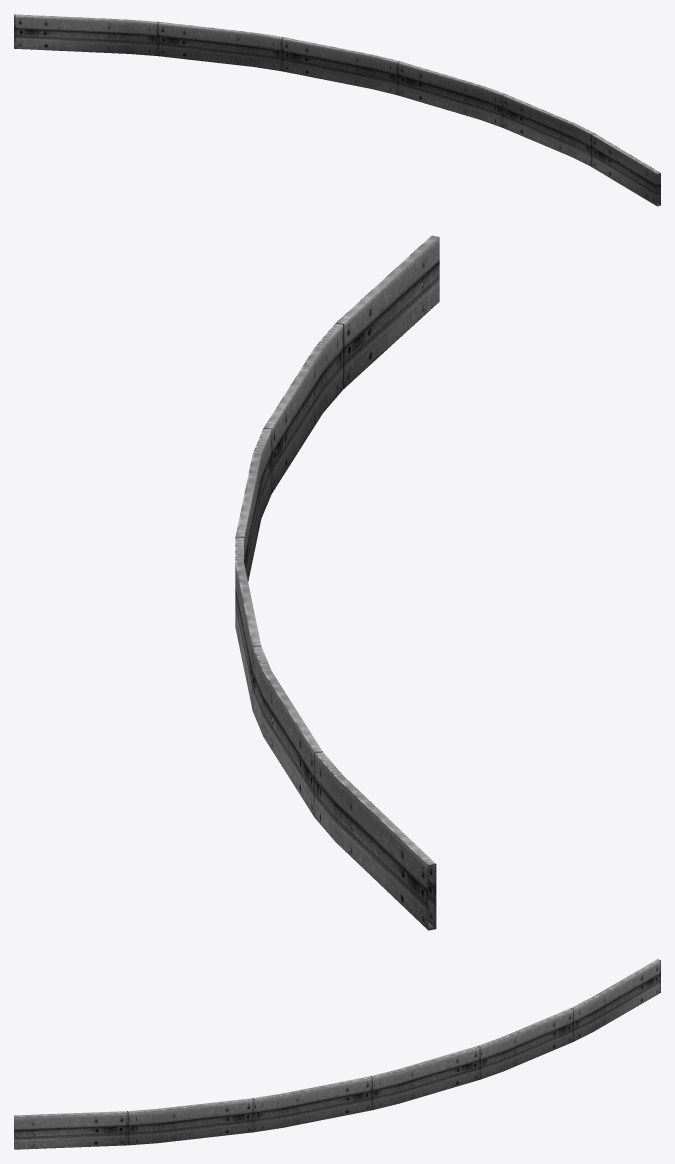
File: 60guard.FBX
3 renders of one model, top to bottom at view 1: azimuth 30°, elevation 25°; view 2: azimuth 150°, elevation 25°; view 3: azimuth 270°, elevation 25°, orthographic. The views are drawn at different scales.
Parts seen in each view (by area): view 1: Object002; view 2: Object002; view 3: Object002.
Part boxes in pixels (bbox=[...]): Object002: bbox=[14, 14, 660, 206]; Object002: bbox=[235, 235, 439, 930]; Object002: bbox=[14, 959, 660, 1149].
Bounding box in the file's own units: 1004 × 96.2 × 1737.
